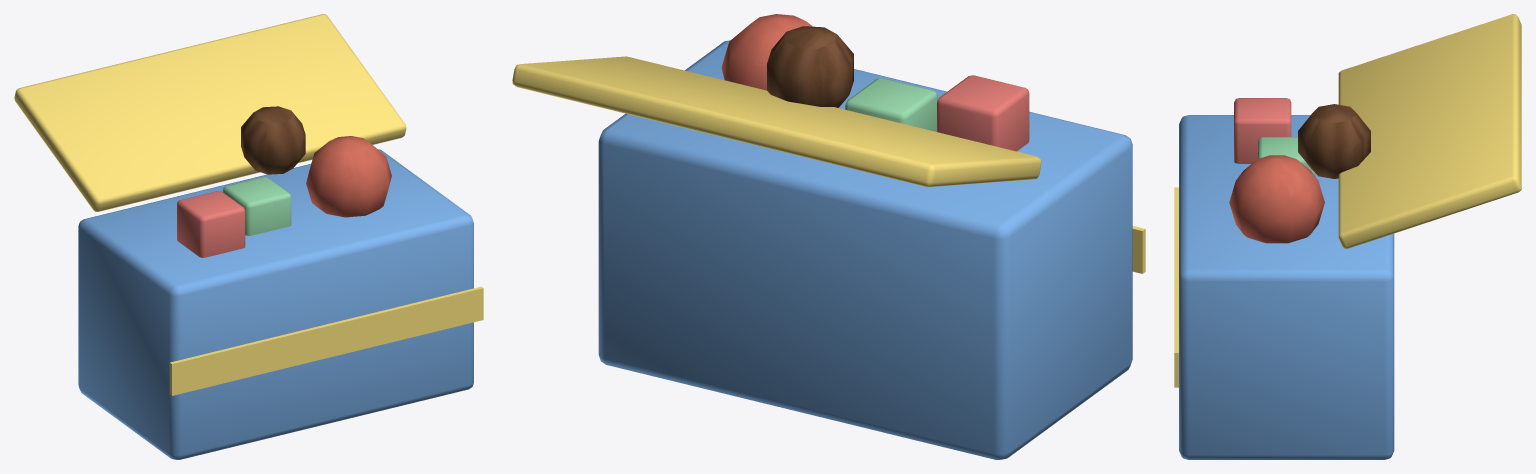
The picture shows the model from 3 angles, left to right: view 1: azimuth 30°, elevation 25°; view 2: azimuth 150°, elevation 25°; view 3: azimuth 270°, elevation 25°; orthographic projection. The views are drawn at different scales.
Parts seen in each view (by area): view 1: Decor_toy_chest; view 2: Decor_toy_chest; view 3: Decor_toy_chest.
Boxes of the visible parts, x1=… form: Decor_toy_chest: x1=14, y1=14, x2=483, y2=459; Decor_toy_chest: x1=512, y1=14, x2=1145, y2=459; Decor_toy_chest: x1=1174, y1=14, x2=1521, y2=459.
Size of the model in its own units: 0.82 by 0.6638 by 0.7264.
6 materials, 2 textured.
